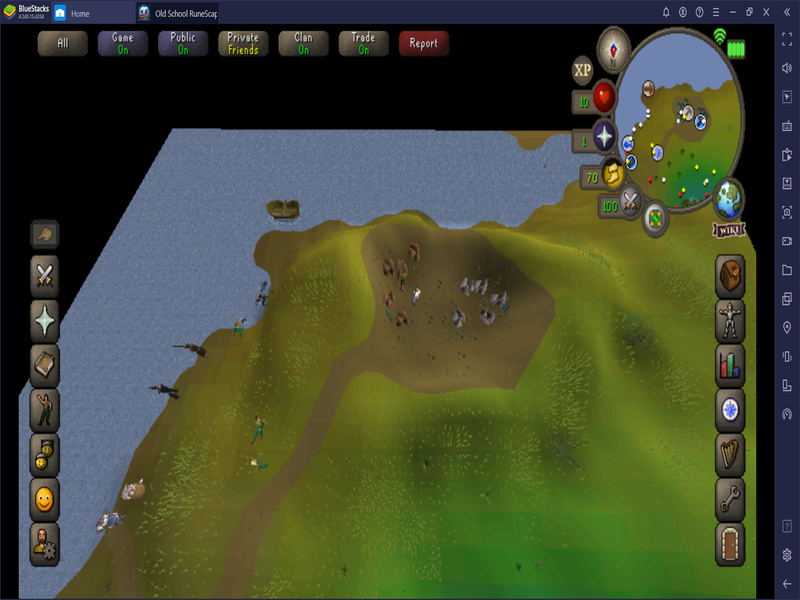copper_rock_1: (395, 310, 410, 327)
copper_rock_2: (382, 289, 396, 307)
